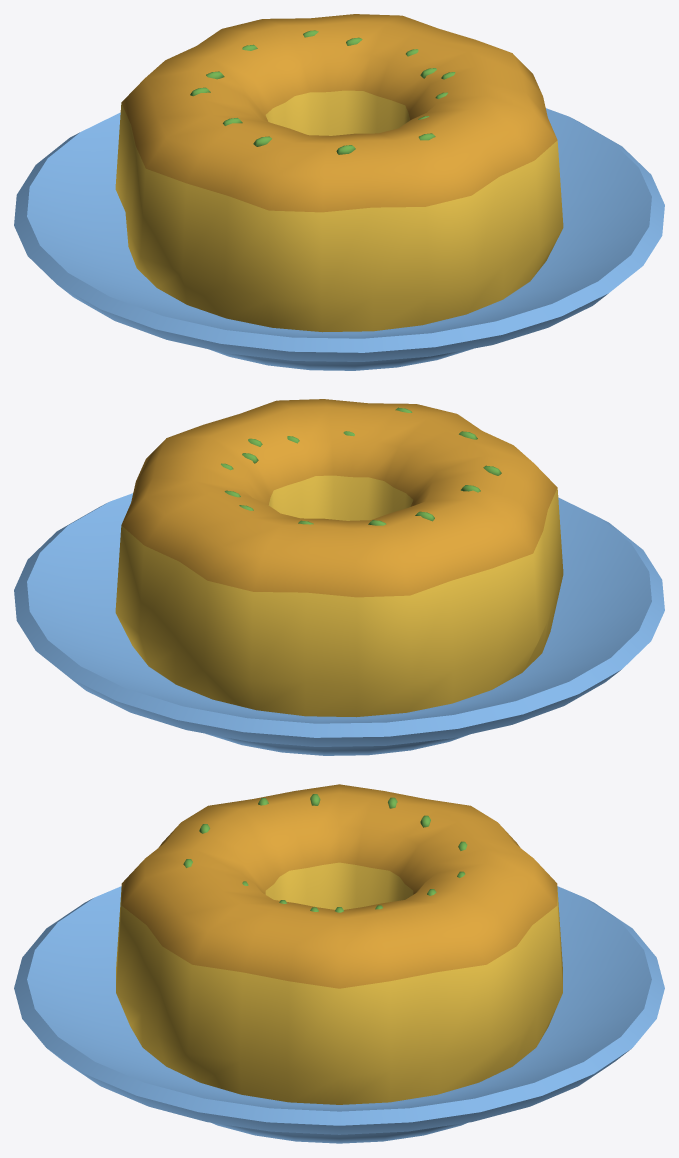
Rendered from bolo-de-fuba.glb.
3 renders of one model, top to bottom at view 1: azimuth 30°, elevation 25°; view 2: azimuth 150°, elevation 25°; view 3: azimuth 270°, elevation 25°, orthographic.
Visible parts, largest first — view 1: bolo-de-fuba; view 2: bolo-de-fuba; view 3: bolo-de-fuba.
Part boxes in pixels (box(x1,y1,x2,y2)): bolo-de-fuba: box(14, 14, 664, 370); bolo-de-fuba: box(14, 399, 664, 755); bolo-de-fuba: box(14, 784, 664, 1143).
Size of the model in its own units: 0.34 by 0.1195 by 0.34.
